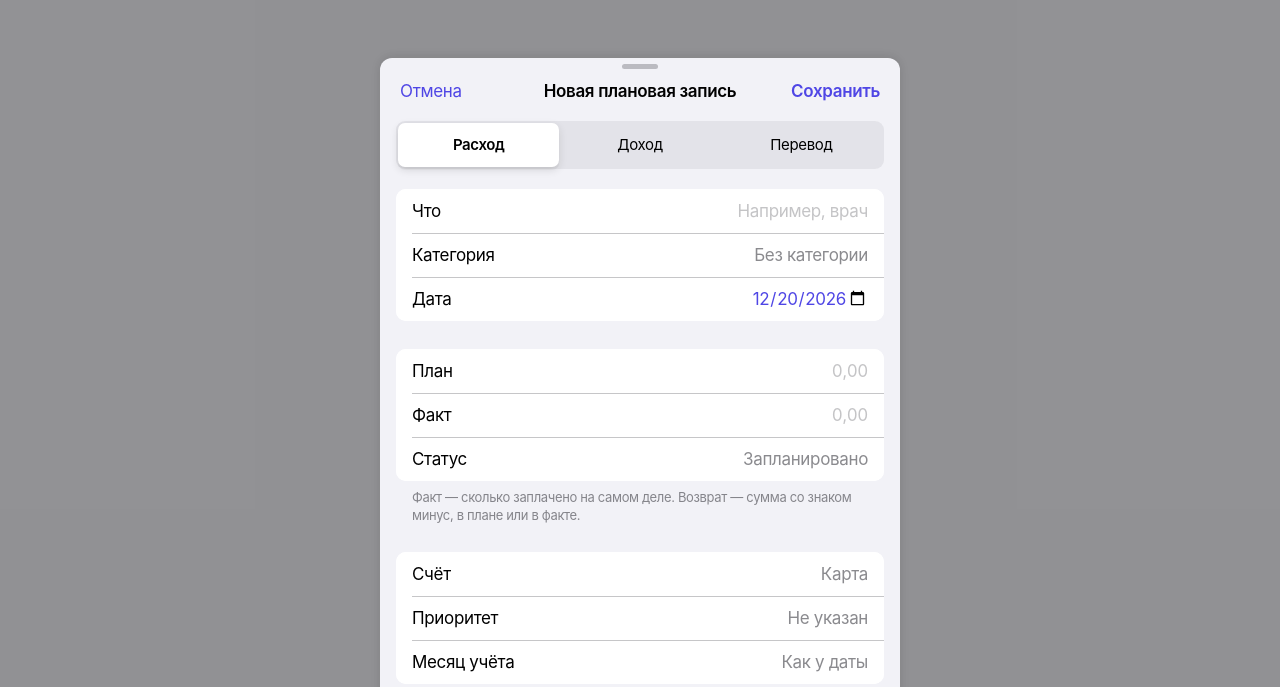
JournalForm — «Перевод» › «Доход» on a savings account: the hint «Похоже на перевод…» under «Счёт»
Click the radio button labelled "Доход". click: click(640, 145)
box: [559,123,721,167]
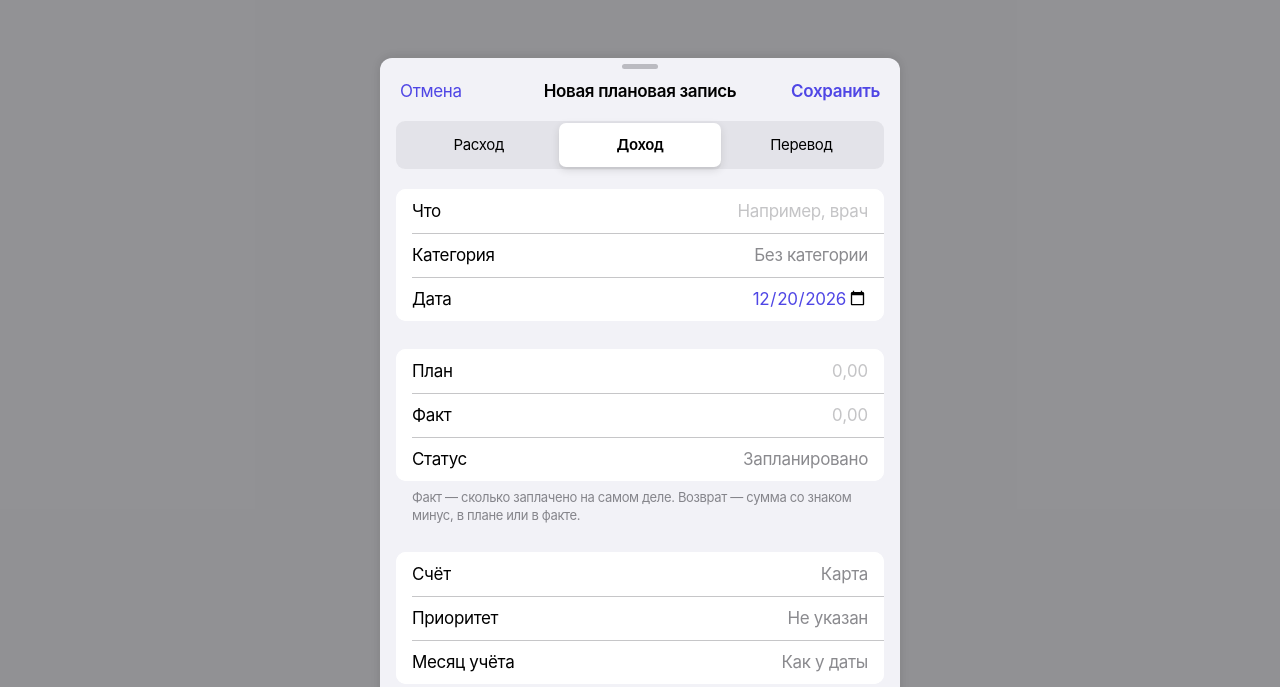
Expected: the text "Похоже на перевод — если деньги пришли с вашей карты, выберите тип «Перевод»" is not shown
Select "Копилка" in the dropdown labelled "Счёт". click: (665, 574)
box: [463,552,868,596]
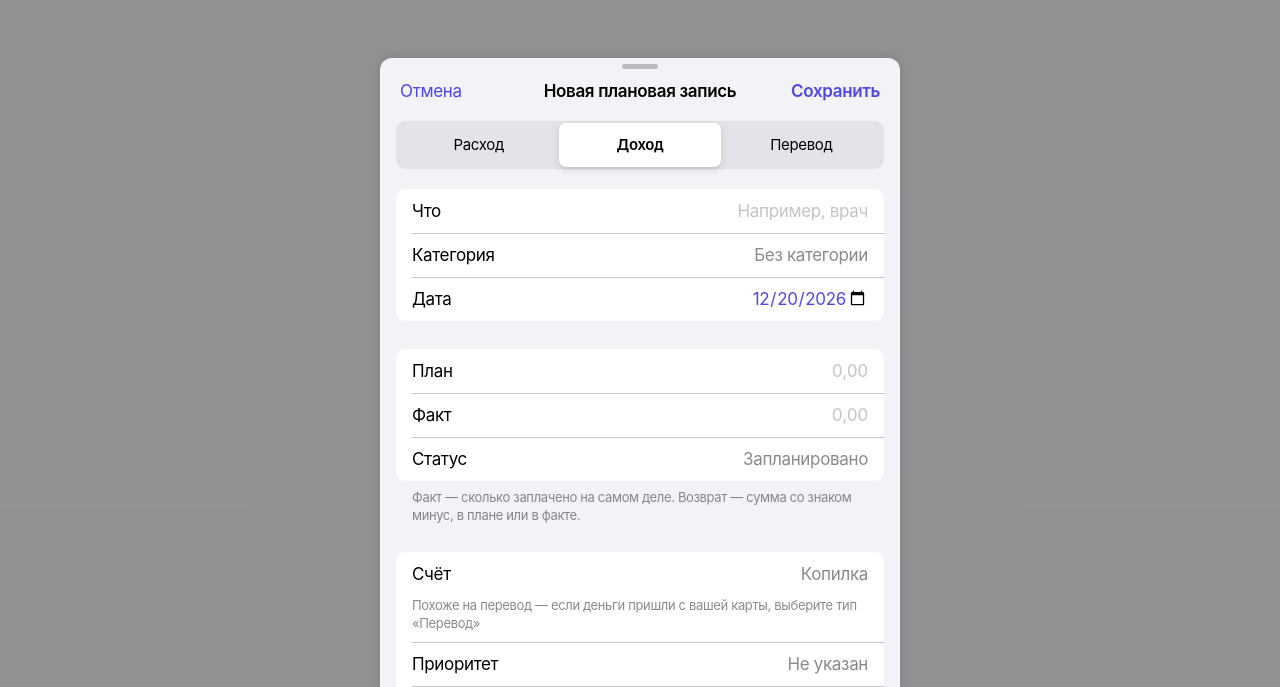
Result: the text "Похоже на перевод — если деньги пришли с вашей карты, выберите тип «Перевод»" is shown at [396,596,884,642]
Click the radio button labelled "Расход". click: click(479, 145)
box: [398,123,559,167]
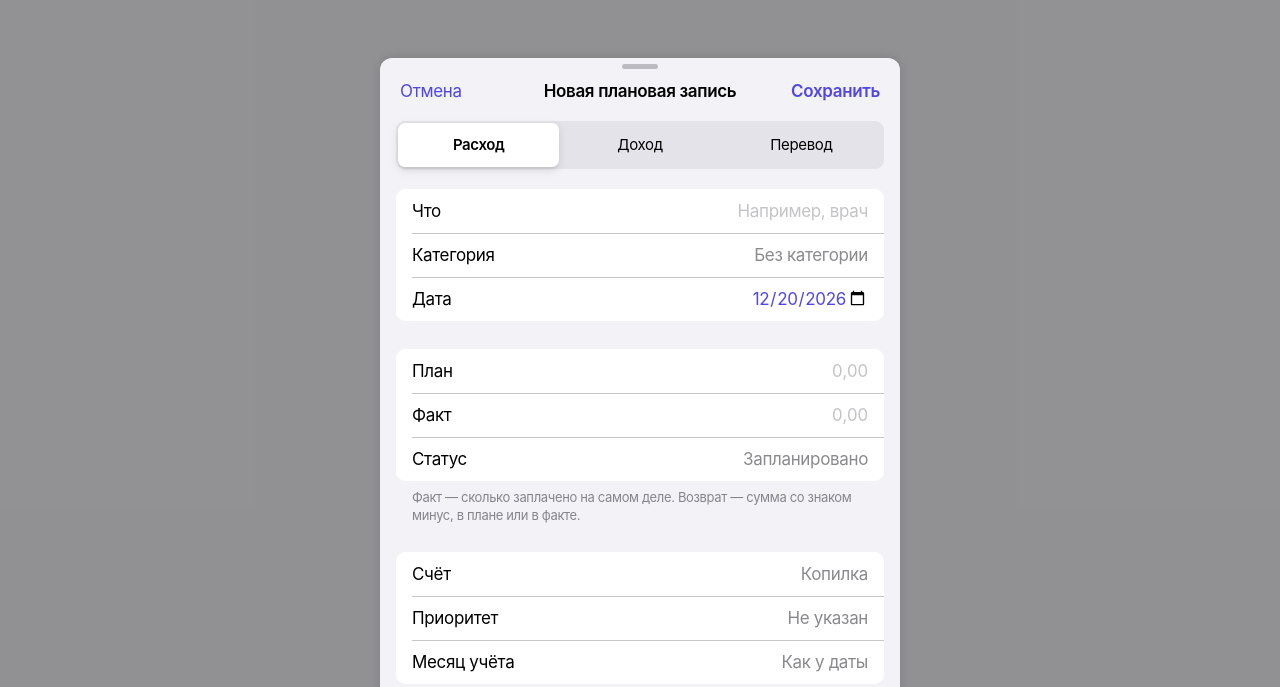
Result: the text "Похоже на перевод — если деньги пришли с вашей карты, выберите тип «Перевод»" is gone
